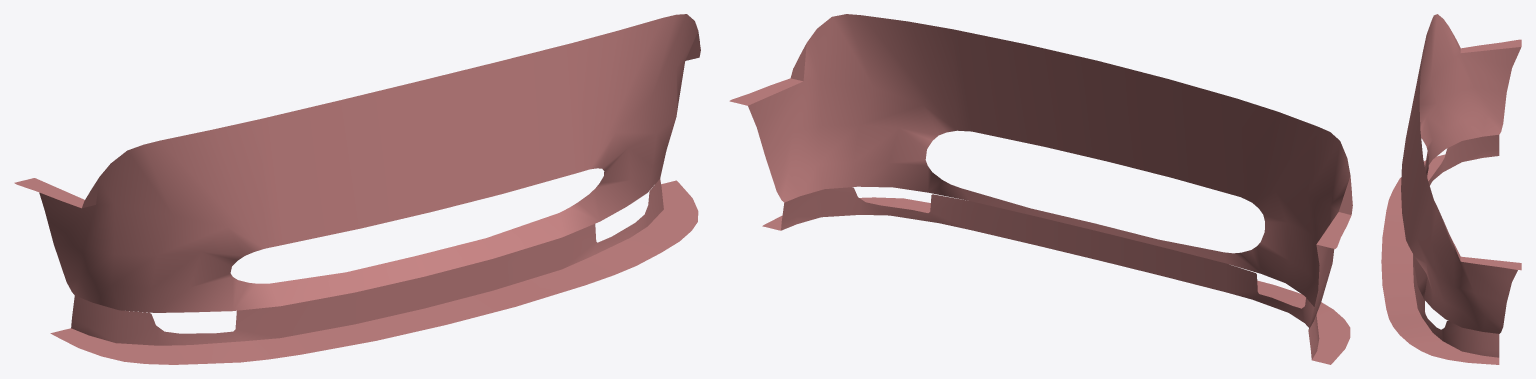
The model's file is MX5_FB04_Trim.fbx.
The picture shows the model from 3 angles, left to right: view 1: azimuth 30°, elevation 25°; view 2: azimuth 150°, elevation 25°; view 3: azimuth 270°, elevation 25°; orthographic projection. The views are drawn at different scales.
Parts seen in each view (by area): view 1: MX5_FB04_Trim; view 2: MX5_FB04_Trim; view 3: MX5_FB04_Trim.
Part boxes in pixels (left/top/right/bottom): MX5_FB04_Trim: left=14, top=14, right=700, bottom=364; MX5_FB04_Trim: left=729, top=14, right=1352, bottom=364; MX5_FB04_Trim: left=1381, top=14, right=1521, bottom=364.
Size of the model in its own units: 156 by 50.22 by 40.22.
